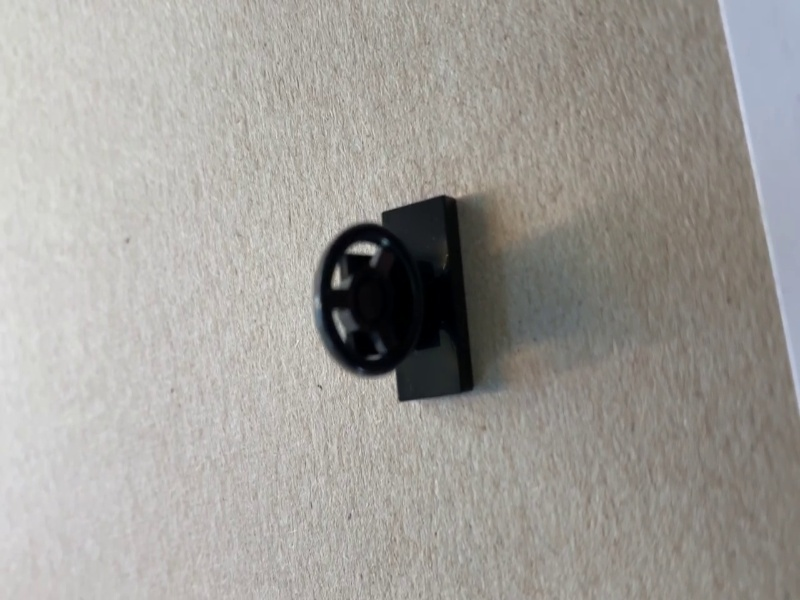steering wheel: (310, 195, 474, 405)
